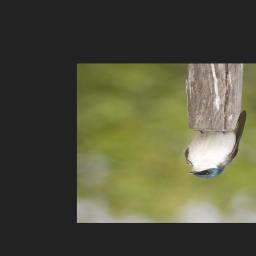Swallow: (182, 110, 247, 182)
